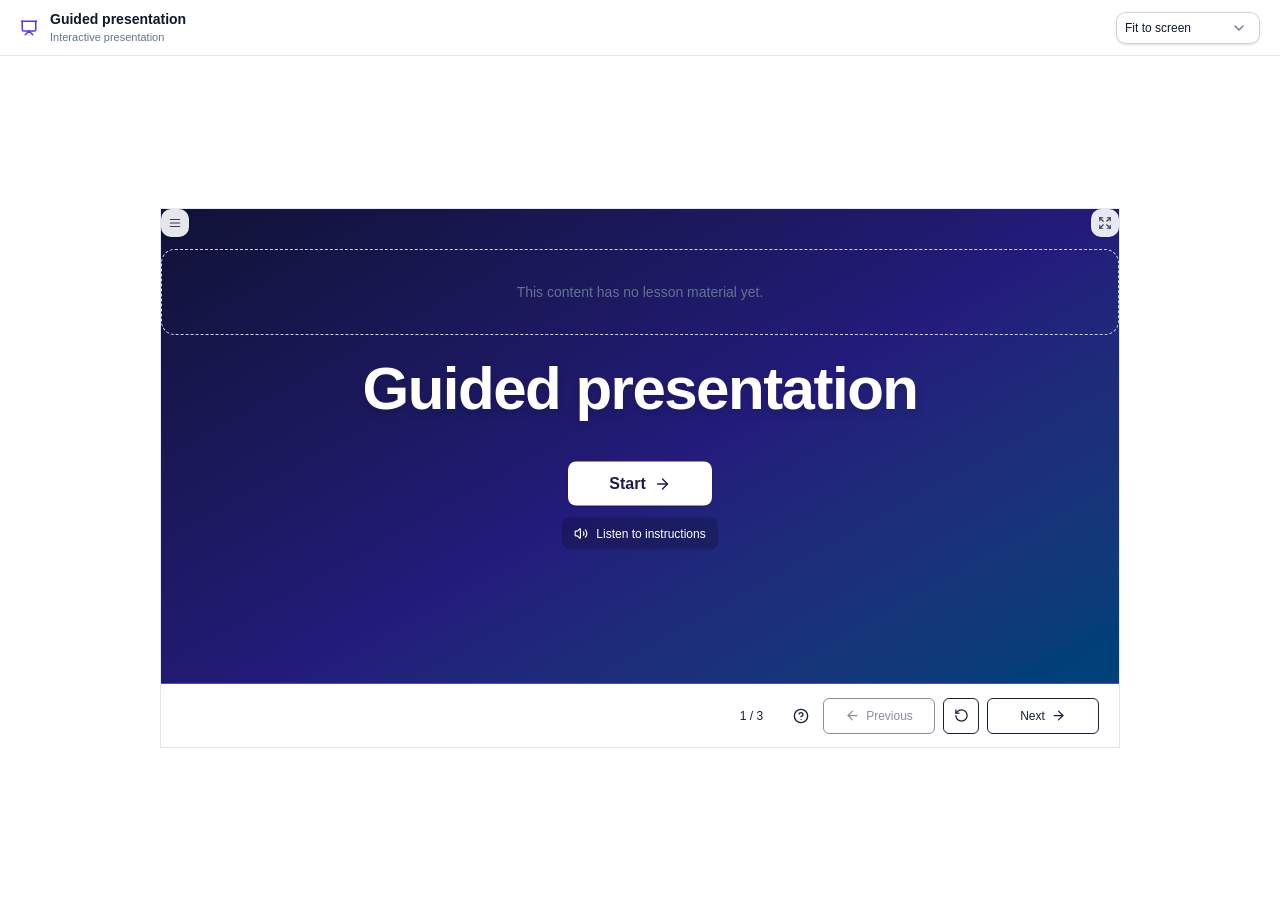
it: presentation instruction audio and first-visit guidance › plays manual audio only when requested and keeps preview guidance separate from the learner export
Click the button "Start" at (640, 484), box x1=568 y1=462 x2=712 y2=506
Wait 100 ms
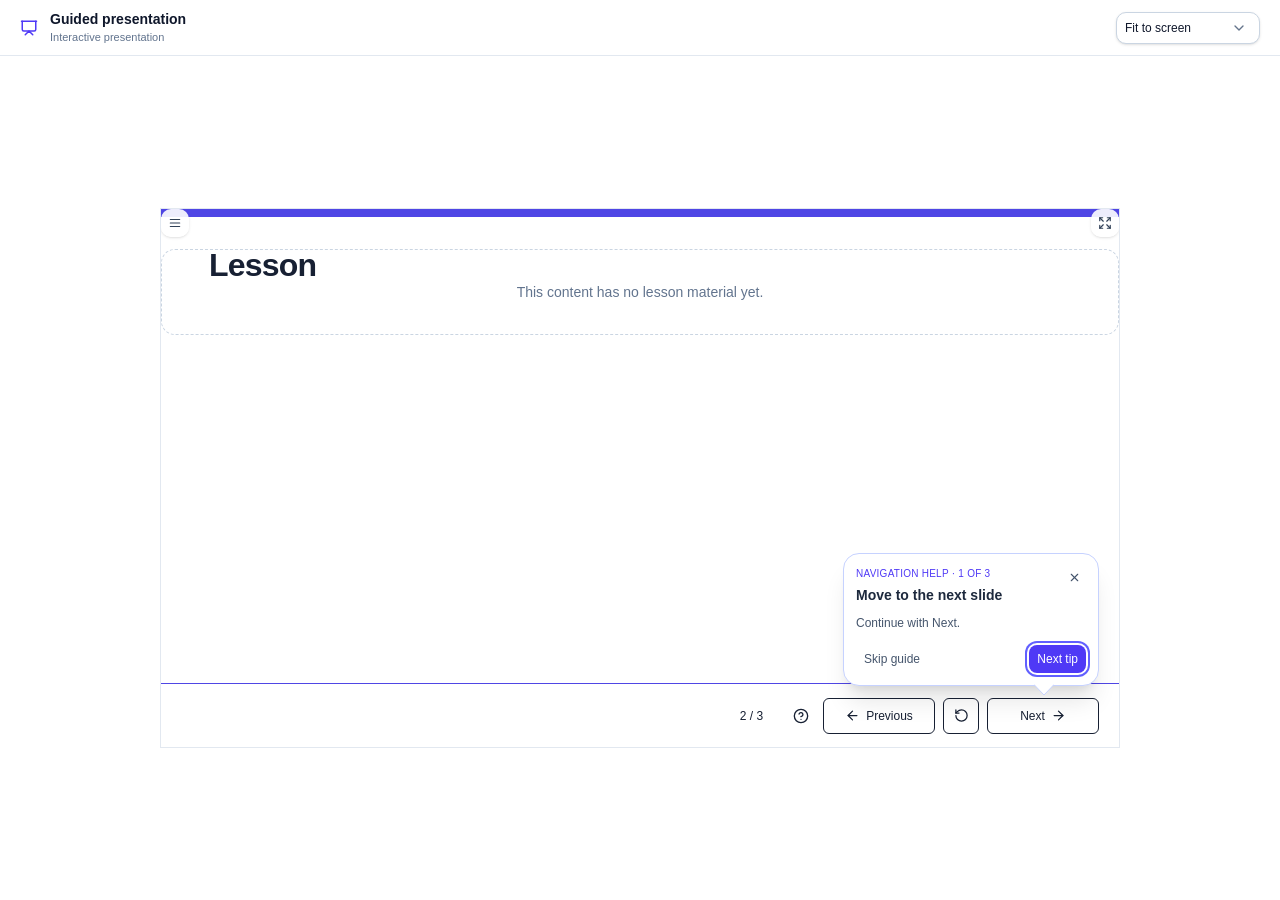
Result: the dialog named "Navigation guide" is shown at x1=843 y1=552 x2=1099 y2=686
